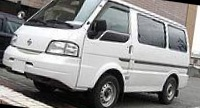van: (0, 0, 198, 108)
